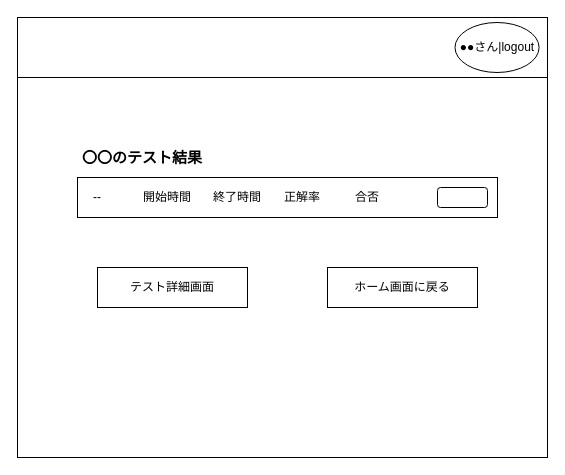
Image size: 565x475. Some labels were removed from this diagram. The shapes that lost their labels are listed below. From the top down, each one's box as (x1, y1, x2, y2) in pixels, then its label:
(16, 16, 548, 78): ヘッダ
(436, 186, 488, 208): 解説
